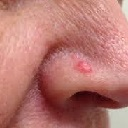Carcinoma: (74, 59, 96, 77)
